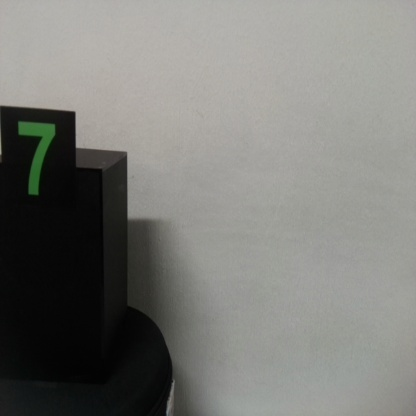id_7: (1, 106, 76, 234)
